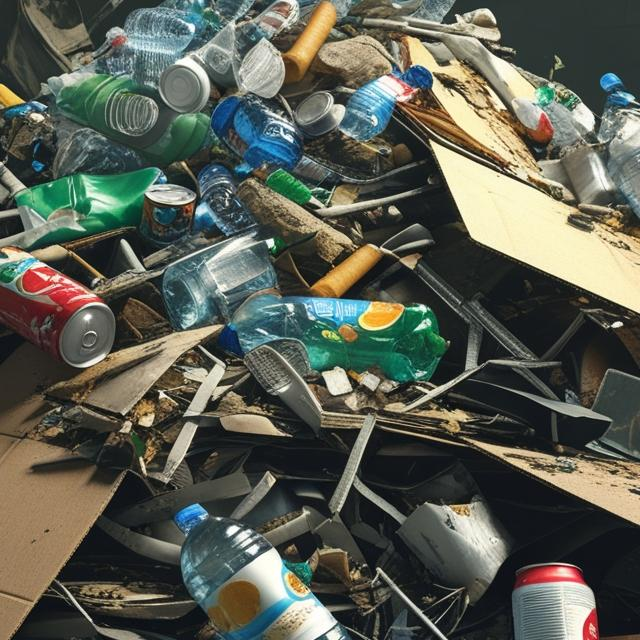metal: (0, 247, 127, 384), (508, 553, 607, 640)
plastic: (178, 507, 379, 640)
